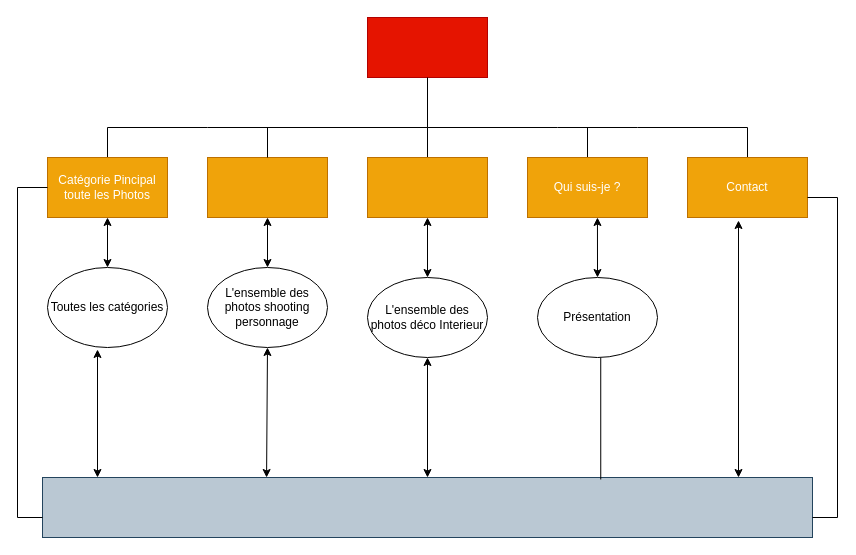
Image size: 856x555. Some labels were removed from this diagram. The box of each missing label's shape, as (x1, y1, x2, y2) in pixels:
Acceuil: (366, 16, 488, 78)
Catégorie photo 1: (206, 156, 328, 218)
Catégorie photo 2: (366, 156, 488, 218)
Footer: (42, 476, 812, 538)
